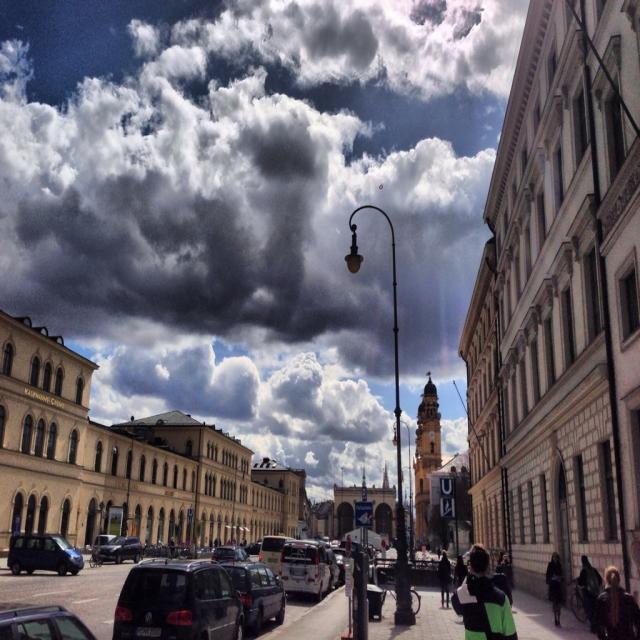car: (7, 530, 83, 572), (96, 535, 141, 563)
